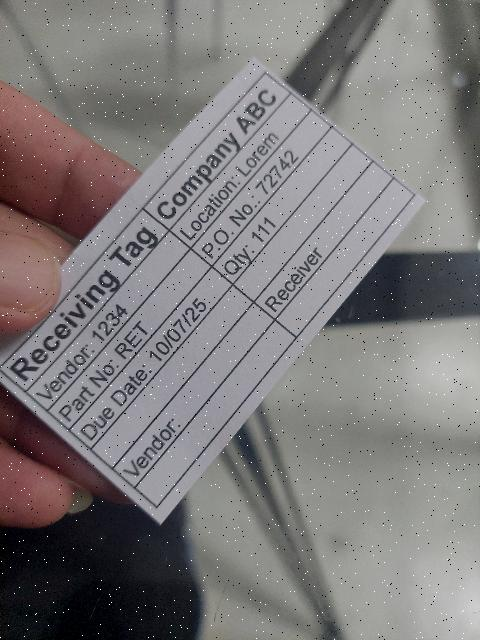PO no: (190, 106, 333, 267)
part no: (48, 249, 211, 429)
qty: (209, 128, 353, 286)
tags: (0, 59, 426, 525)
